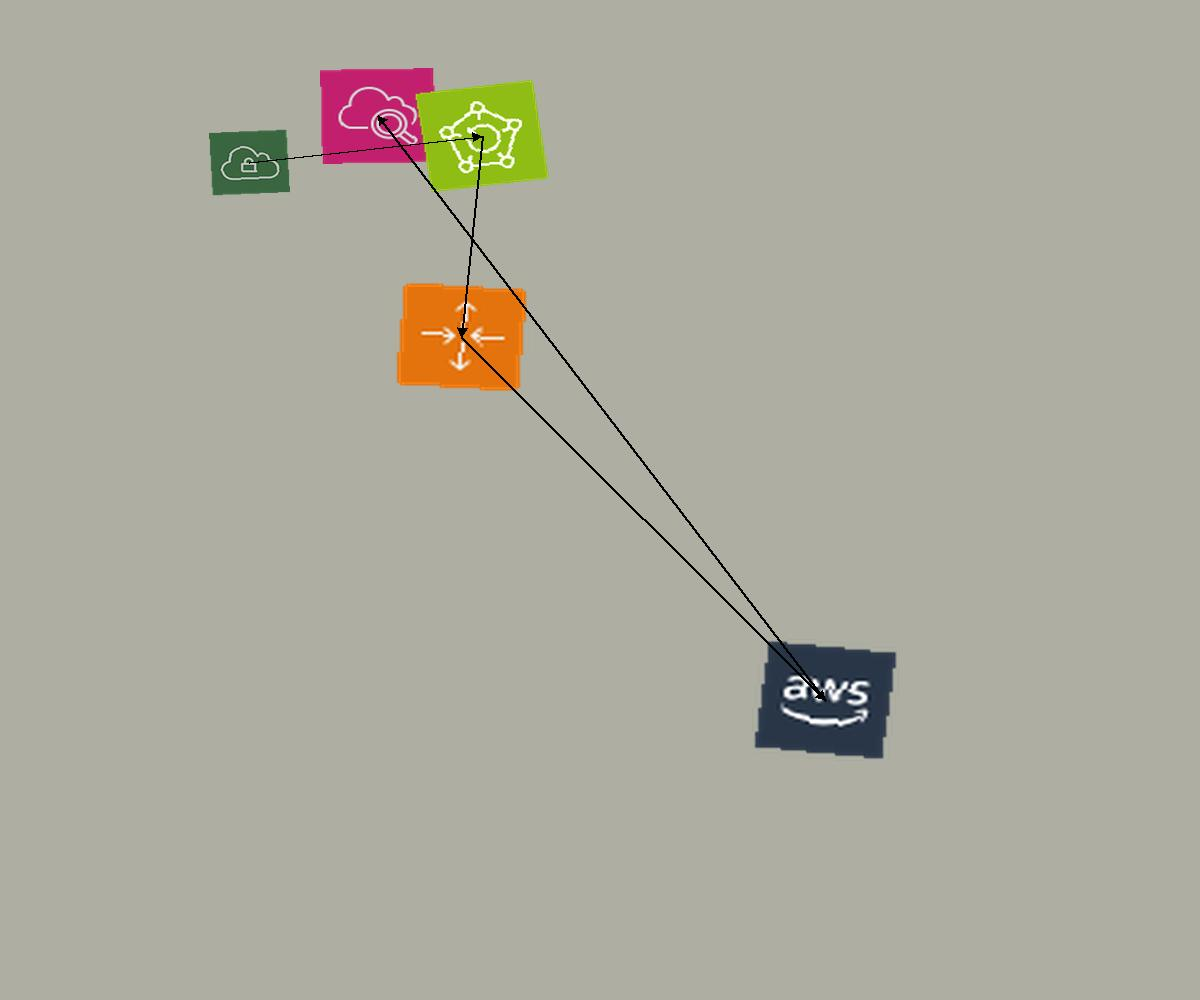AWS-Backup: (414, 79, 550, 193)
AWS-Cloud-logo: (752, 639, 899, 761)
AWS-CloudWatch: (320, 68, 436, 164)
AWS-Private_vpc: (209, 129, 290, 196)
AWS-Scaling-group: (394, 281, 529, 393)
